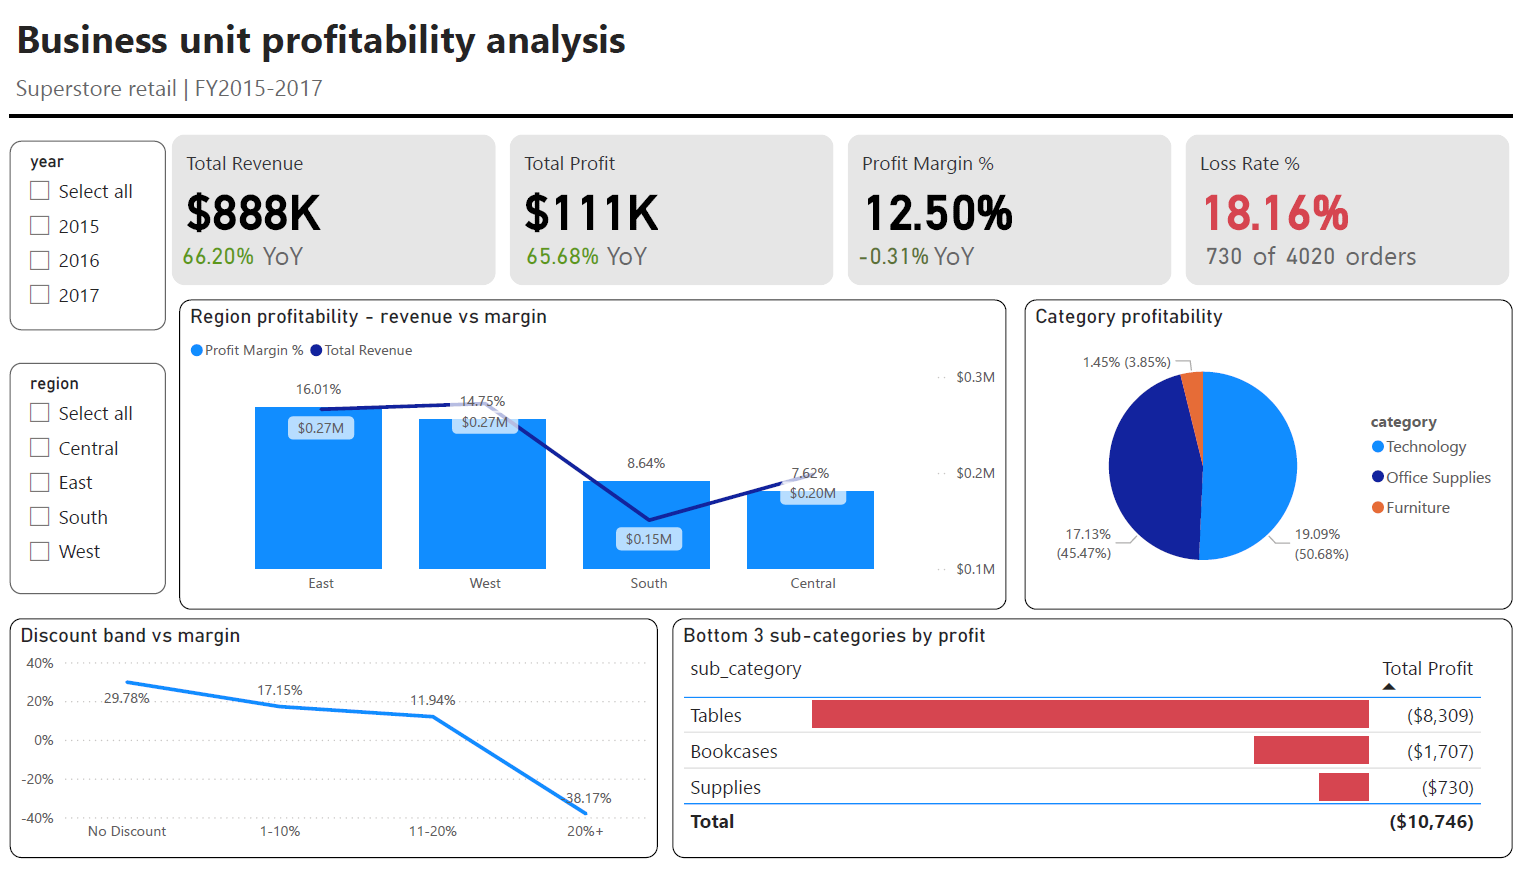

This screenshot's page, from the dashboard's own definition file:
{"tool":"powerbi","page":{"name":"Dashboard","canvas":[1280,720],"ordinal":0},"visuals":[{"type":"textbox","box":[9.6,0,731.4,63.1],"z":0},{"type":"textbox","box":[9.6,50.8,731.4,61.7],"z":1000},{"type":"shape","box":[9.6,17.8,1259.7,149.6],"z":2000},{"type":"cardVisual","fields":{"Data":["fact_sales.Total Revenue","fact_sales.Total Profit","fact_sales.Profit Margin %","fact_sales.Loss Rate %"]},"box":[141.3,102.9,1129.3,135.8],"z":3000},{"type":"card","fields":{"Values":["fact_sales.Loss Making Orders"]},"box":[978.4,167.4,97.4,85.1],"z":4000},{"type":"textbox","box":[1045.6,189.4,205.8,49.4],"z":5000},{"type":"card","fields":{"Values":["fact_sales.Total Orders"]},"box":[1045.6,167.4,107,85.1],"z":6000},{"type":"card","fields":{"Values":["fact_sales.Revenue YoY %"]},"box":[141.3,174.3,86.4,71.4],"z":7000},{"type":"slicer","fields":{"Values":["dim_date.year"]},"box":[9.6,112.5,131.7,159.2],"z":8000},{"type":"textbox","box":[216.8,189.4,129,63.1],"z":9000},{"type":"card","fields":{"Values":["fact_sales.Profit YoY %"]},"box":[429.5,174.3,86.4,71.4],"z":10000},{"type":"textbox","box":[505,189.4,119.4,63.1],"z":11000},{"type":"card","fields":{"Values":["fact_sales.Profit Margin YoY %"]},"box":[706.7,174.3,86.4,71.4],"z":12000},{"type":"textbox","box":[779.4,189.4,131.7,72.7],"z":13000},{"type":"lineClusteredColumnComboChart","title":"Region profitability - revenue vs margin","fields":{"Category":["dim_region.region"],"Y2":["fact_sales.Total Revenue"],"Y":["fact_sales.Profit Margin %"]},"box":[152.3,245.6,693,260.7],"z":14000},{"type":"tableEx","title":"Bottom 3 sub-categories by profit","fields":{"Values":["dim_product.sub_category","fact_sales.Total Profit"]},"box":[565.4,513.2,703.9,200.3],"z":15000},{"type":"lineChart","title":"Discount band vs margin","fields":{"Y":["fact_sales.Profit Margin %"],"Category":["fact_sales.discount_band"]},"box":[9.6,513.2,543.4,200.3],"z":16000},{"type":"pieChart","title":"Category profitability","fields":{"Category":["dim_product.category"],"Y":["fact_sales.Profit Margin %"]},"box":[860.4,245.6,408.9,260.7],"z":17000},{"type":"slicer","fields":{"Values":["dim_region.region"]},"box":[9.6,299.1,131.7,193.5],"z":19000},{"type":"barChart","title":"Bottom 3 sub-categories by profit","fields":{"Category":["dim_product.sub_category"],"Y":["fact_sales.Total Profit"]},"box":[639.5,569.5,513.2,102.9],"z":19001}]}

Visuals, with their boxes in screenshot pixels (x1, y1, x2, y2), scaled from the page's 1280x720 canvas onto the 1523x880 screenshot:
textbox: x1=11 y1=0 x2=882 y2=77
textbox: x1=11 y1=62 x2=882 y2=138
shape: x1=11 y1=22 x2=1510 y2=205
cardVisual - fact_sales.Total Revenue x fact_sales.Total Profit: x1=168 y1=126 x2=1512 y2=292
card - fact_sales.Loss Making Orders: x1=1164 y1=205 x2=1280 y2=309
textbox: x1=1244 y1=231 x2=1489 y2=292
card - fact_sales.Total Orders: x1=1244 y1=205 x2=1371 y2=309
card - fact_sales.Revenue YoY %: x1=168 y1=213 x2=271 y2=300
slicer - dim_date.year: x1=11 y1=138 x2=168 y2=332
textbox: x1=258 y1=231 x2=411 y2=309
card - fact_sales.Profit YoY %: x1=511 y1=213 x2=614 y2=300
textbox: x1=601 y1=231 x2=743 y2=309
card - fact_sales.Profit Margin YoY %: x1=841 y1=213 x2=944 y2=300
textbox: x1=927 y1=231 x2=1084 y2=320
"Region profitability - revenue vs margin" lineClusteredColumnComboChart: x1=181 y1=300 x2=1006 y2=619
"Bottom 3 sub-categories by profit" tableEx: x1=673 y1=627 x2=1510 y2=872
"Discount band vs margin" lineChart: x1=11 y1=627 x2=658 y2=872
"Category profitability" pieChart: x1=1024 y1=300 x2=1510 y2=619
slicer - dim_region.region: x1=11 y1=366 x2=168 y2=602
"Bottom 3 sub-categories by profit" barChart: x1=761 y1=696 x2=1372 y2=822
